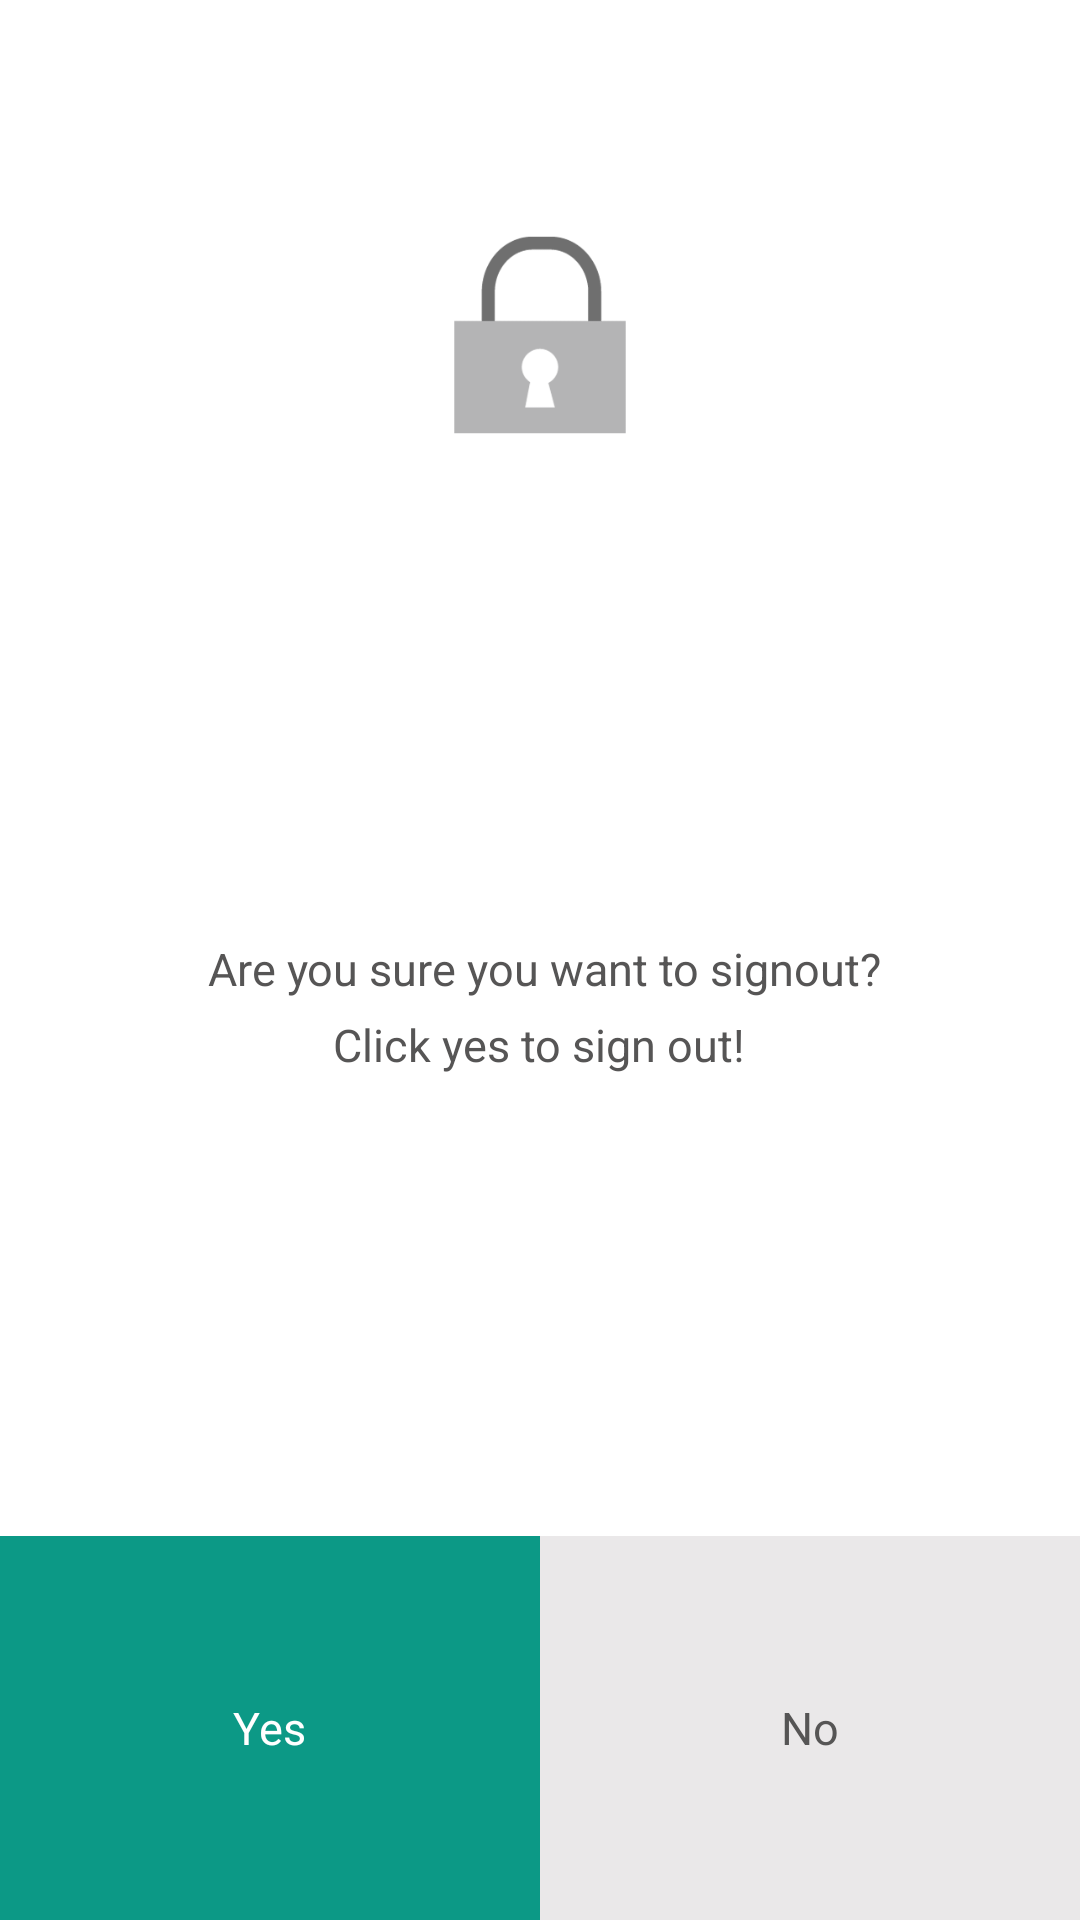

Where to tap for icons on this 1080px×1920px app screen, as (x,y):
lock signout: (540,334)
